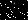person: (6, 4, 15, 18)
